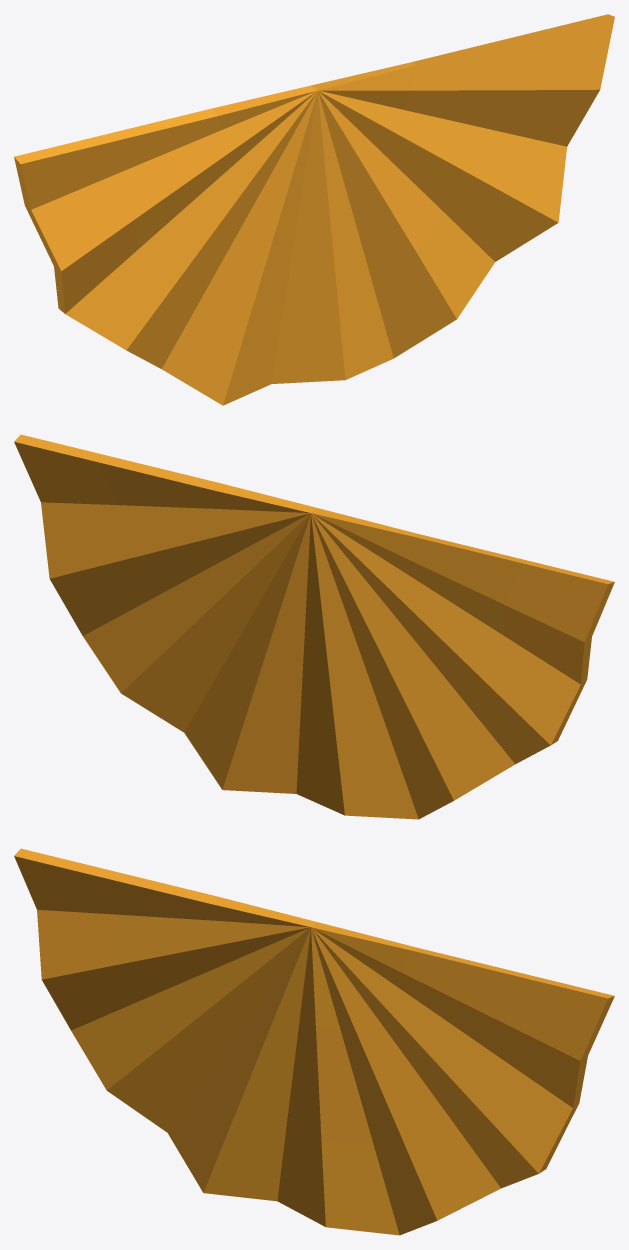
The model's file is SM_Decor_Semicircle_A_4july.fbx.
3 views of the same model, one above another, from view 1: azimuth 30°, elevation 25°; view 2: azimuth 150°, elevation 25°; view 3: azimuth 330°, elevation 25° (orthographic).
Visible parts, largest first — view 1: decor-semicircle-a-4july; view 2: decor-semicircle-a-4july; view 3: decor-semicircle-a-4july.
Boxes of the visible parts, x1,y1,x2,y2 form: decor-semicircle-a-4july: (14, 14, 614, 405); decor-semicircle-a-4july: (14, 434, 614, 819); decor-semicircle-a-4july: (14, 848, 614, 1235).
Bounding box in the file's own units: 0.496 × 0.2346 × 0.0285.
